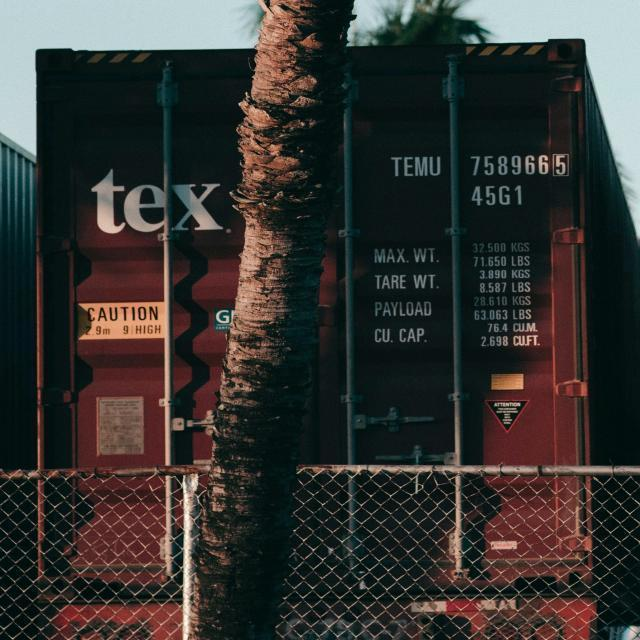ISO: (470, 183, 522, 207)
container_number: (396, 153, 571, 180)
